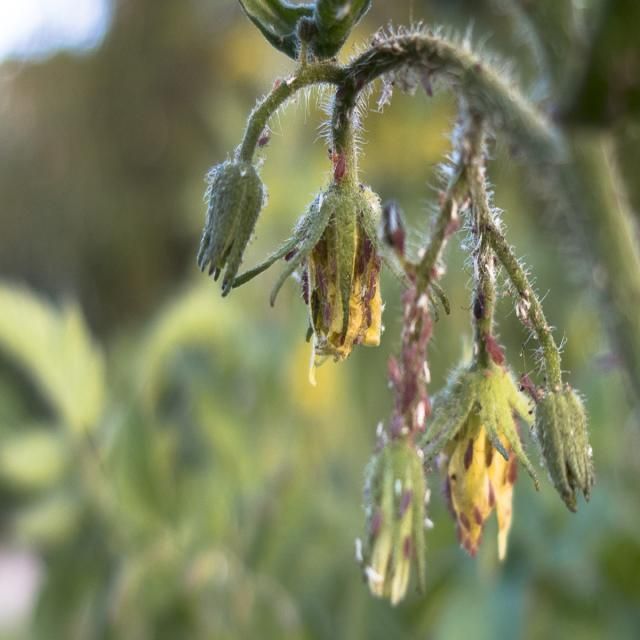Aphids: (418, 508, 441, 538), (387, 466, 405, 503), (420, 476, 438, 507)
